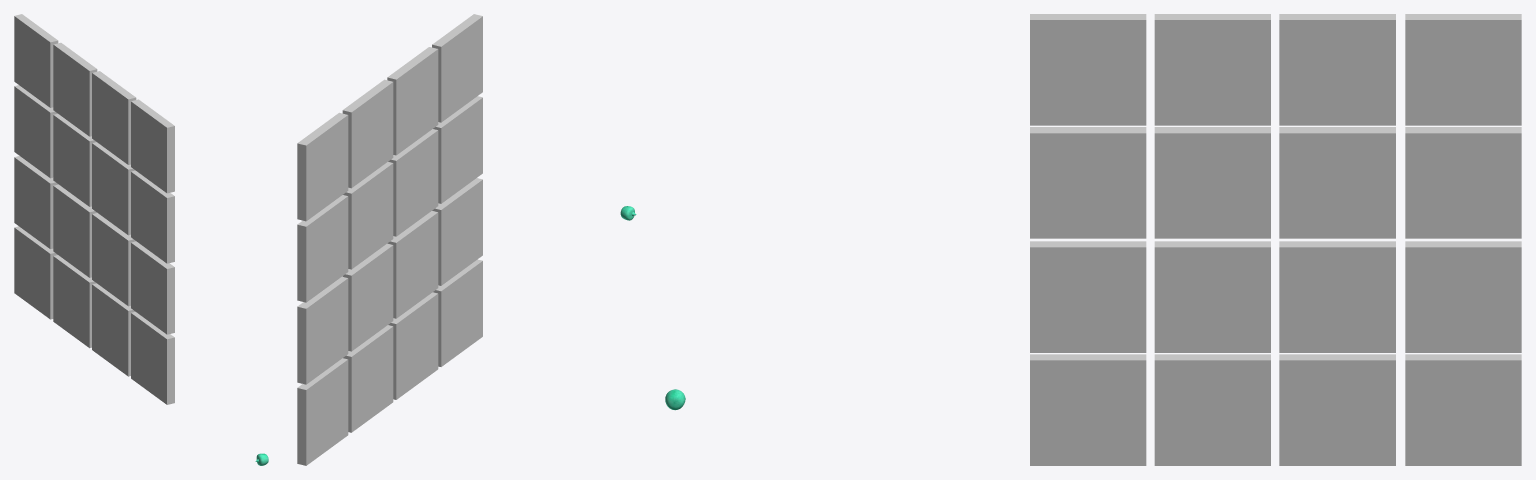
Rendered from Bolinha Verde.fbx.
3 views of the same model, side by side, from view 1: azimuth 30°, elevation 25°; view 2: azimuth 150°, elevation 25°; view 3: azimuth 270°, elevation 25° (orthographic). The views are drawn at different scales.
Parts seen in each view (by area): view 1: Cube; view 2: Cube; view 3: Cube.
Boxes of the visible parts, x1,y1,x2,y2 form: Cube: [14, 14, 174, 404]; Cube: [297, 14, 482, 465]; Cube: [1030, 14, 1521, 465].
Size of the model in its own units: 52.46 by 459 by 799.
Materials: 1 (1 with a texture image).
